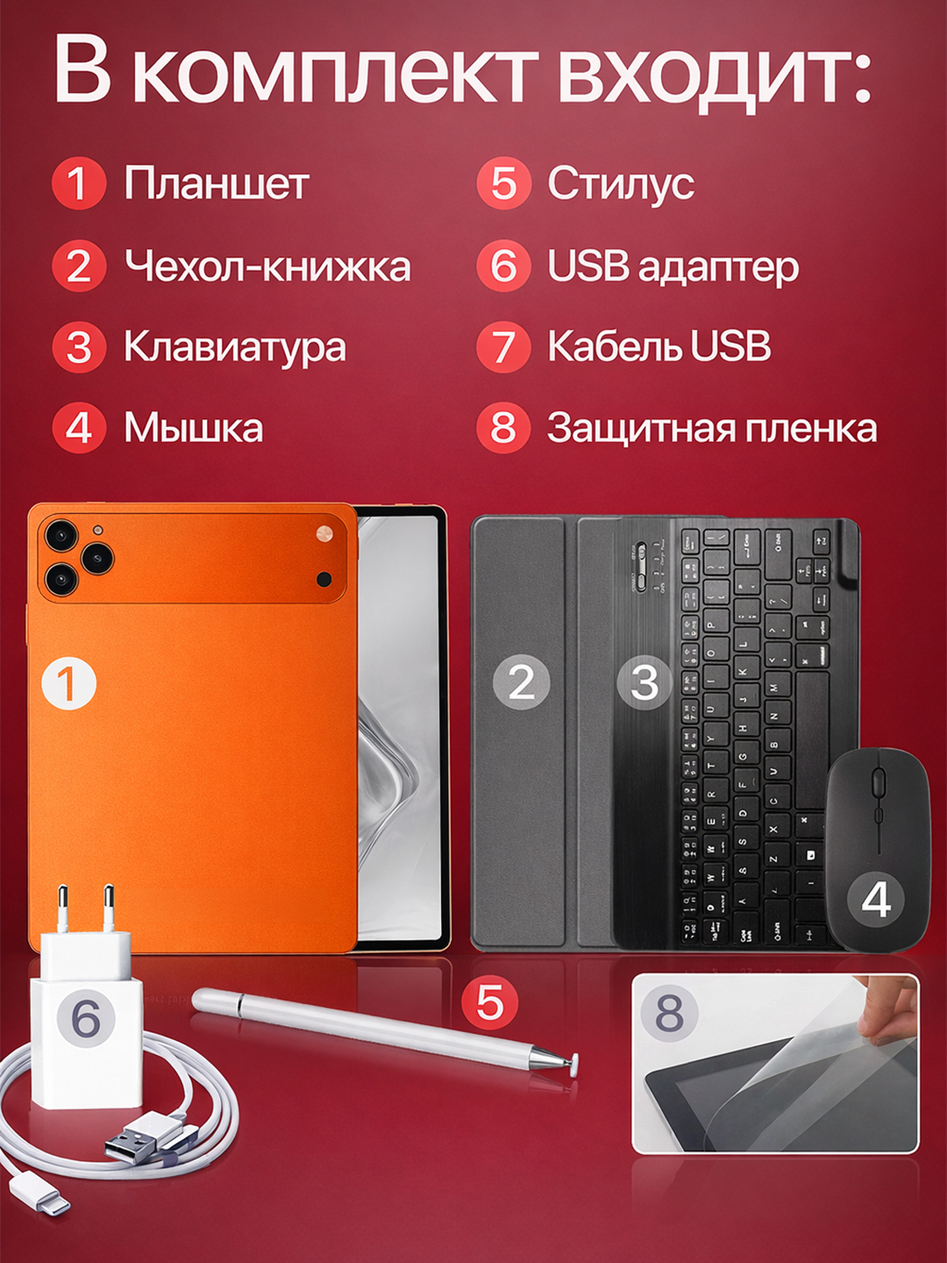tablet: (24, 499, 362, 953), (635, 1016, 930, 1153), (364, 506, 450, 955)
